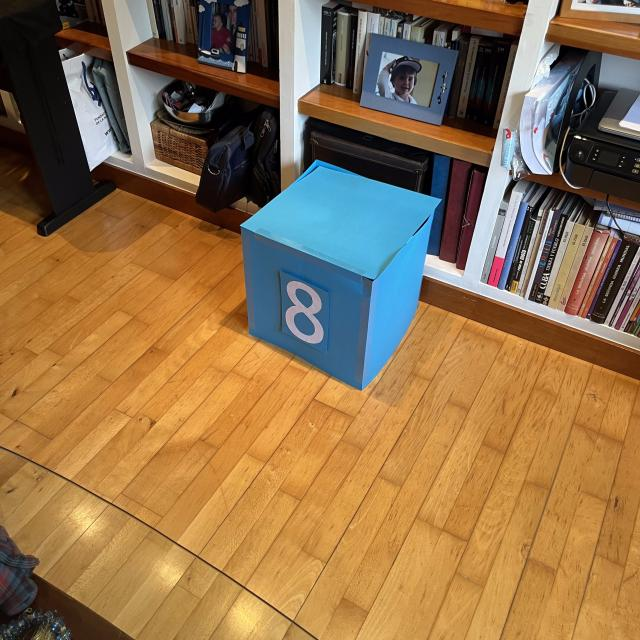box: (235, 156, 442, 392)
